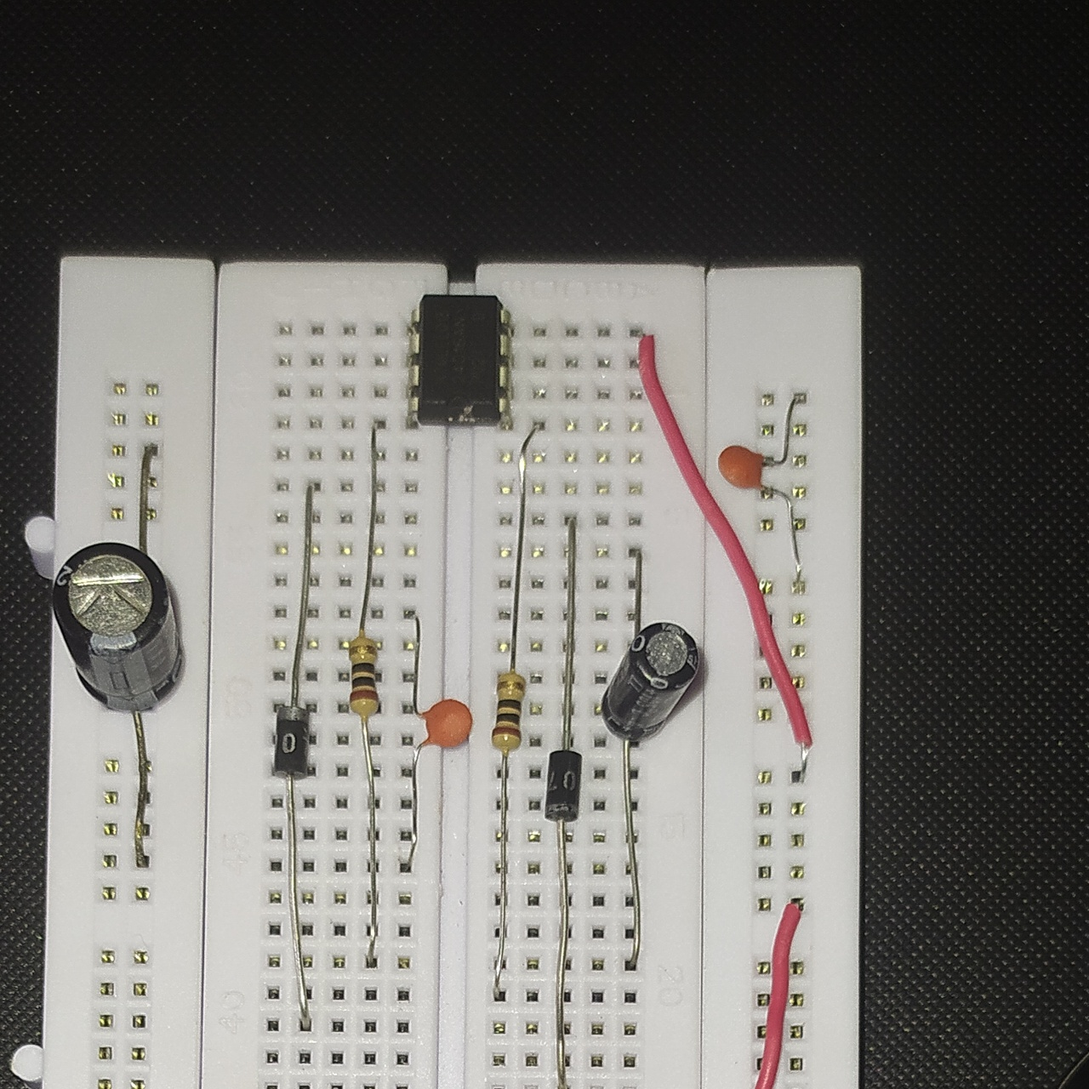capacitor: (52, 542, 184, 714), (600, 621, 698, 751), (415, 696, 474, 753), (715, 442, 770, 497)
resistor: (492, 673, 527, 753), (346, 635, 376, 719)
